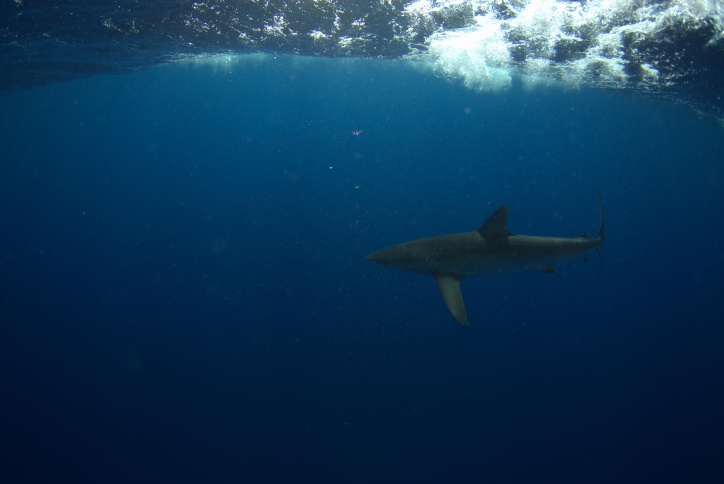Sedoso: (338, 174, 618, 334)
